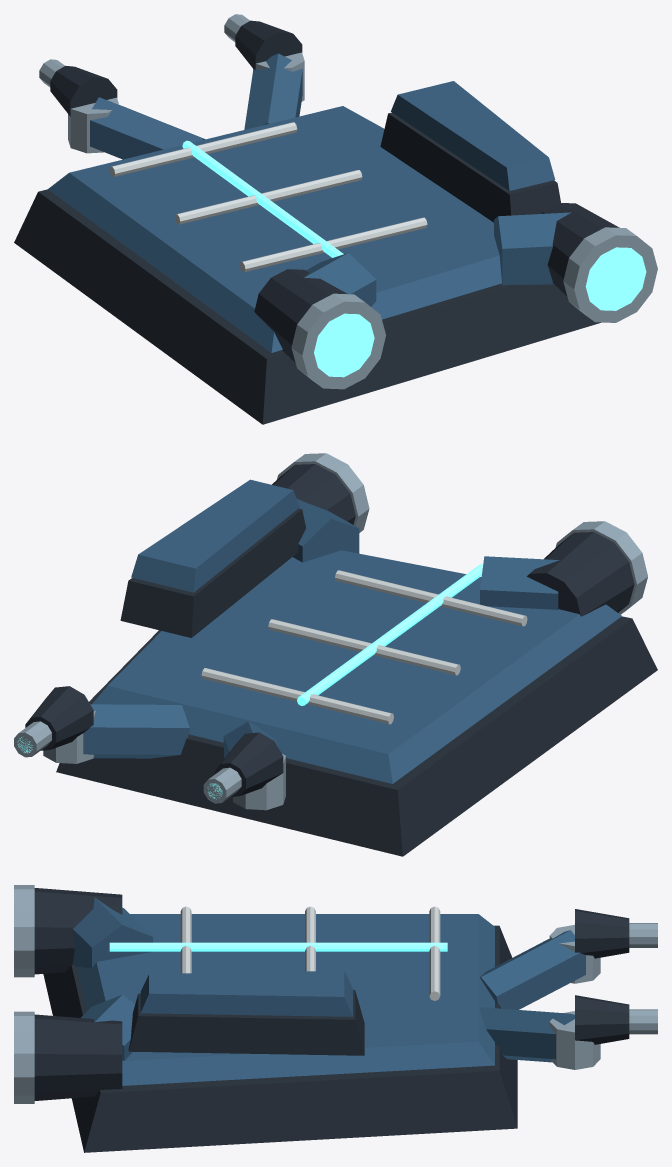
The model's file is c4_miniHive.glb.
3 views of the same model, one above another, from view 1: azimuth 30°, elevation 25°; view 2: azimuth 150°, elevation 25°; view 3: azimuth 270°, elevation 25° (orthographic). The views are drawn at different scales.
Parts seen in each view (by area): view 1: miniHive / Armor, miniHive / Chassis, miniHive / Titanium, miniHive / Energy, miniHive / Identification; view 2: miniHive / Armor, miniHive / Chassis, miniHive / Titanium, miniHive / Identification, miniHive / Energy; view 3: miniHive / Armor, miniHive / Chassis, miniHive / Titanium, miniHive / Energy, miniHive / Identification.
Boxes of the visible parts, left/top/right/bottom form: miniHive / Armor: left=48, top=53, right=571, bottom=352; miniHive / Chassis: left=14, top=20, right=619, bottom=424; miniHive / Titanium: left=39, top=14, right=657, bottom=389; miniHive / Energy: left=182, top=140, right=646, bottom=377; miniHive / Identification: left=109, top=122, right=427, bottom=272; miniHive / Armor: left=83, top=479, right=621, bottom=783; miniHive / Chassis: left=25, top=464, right=657, bottom=856; miniHive / Titanium: left=14, top=453, right=647, bottom=810; miniHive / Identification: left=201, top=570, right=527, bottom=724; miniHive / Energy: left=18, top=564, right=483, bottom=799; miniHive / Armor: left=72, top=898, right=585, bottom=1085; miniHive / Chassis: left=34, top=888, right=629, bottom=1152; miniHive / Titanium: left=14, top=885, right=657, bottom=1103; miniHive / Energy: left=109, top=942, right=447, bottom=951; miniHive / Identification: left=180, top=906, right=440, bottom=1000.
Bounding box in the file's own units: 1.35 × 0.473 × 2.02.
